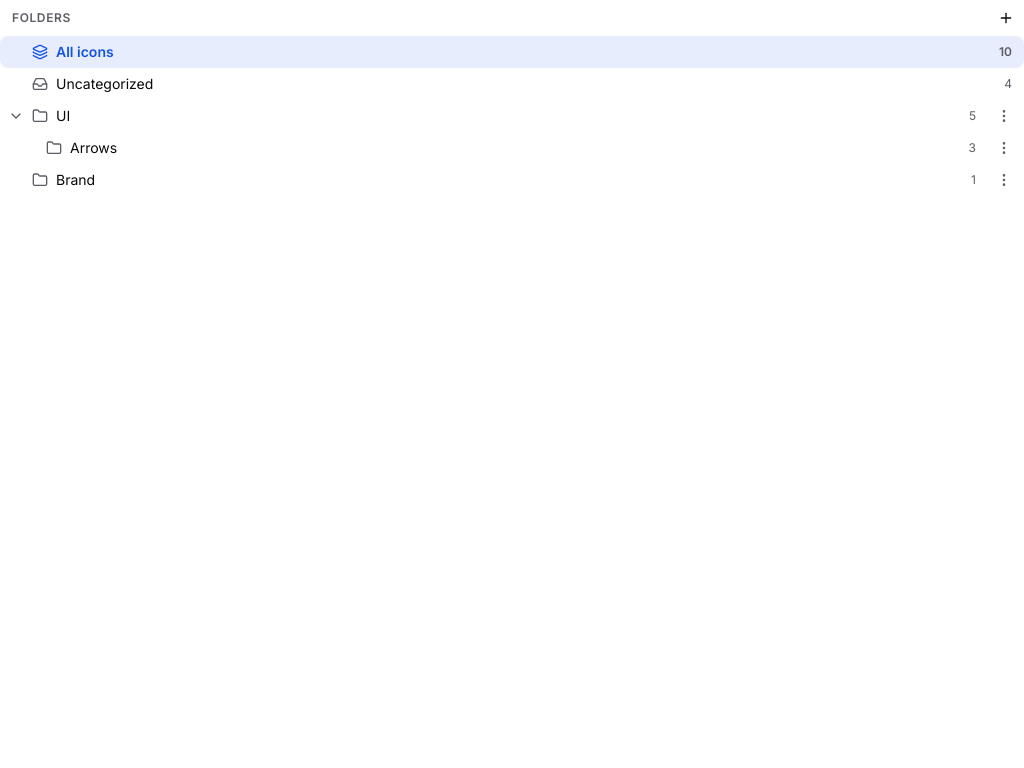
Test: folder actions › refuses an empty name and shows an error from the server inside the dialog
The image size is (1024, 768).
Click the button named "New folder": (1006, 18) [992,4,1020,32]
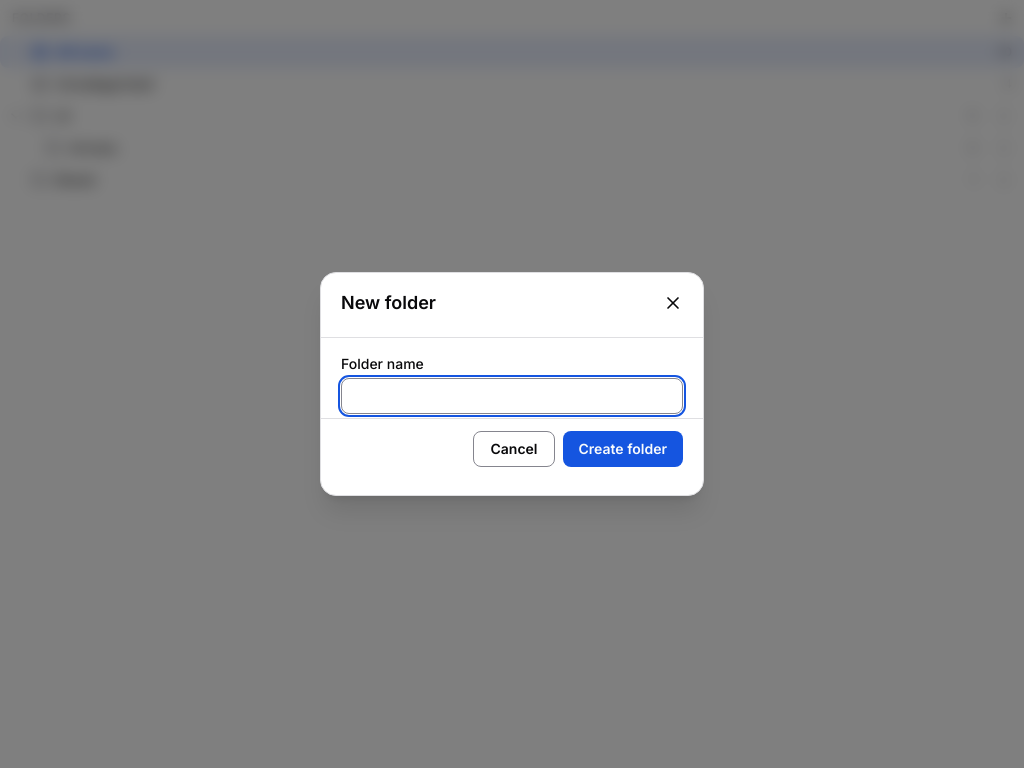
Click the button "Create folder": (623, 449) [562,431,683,467]
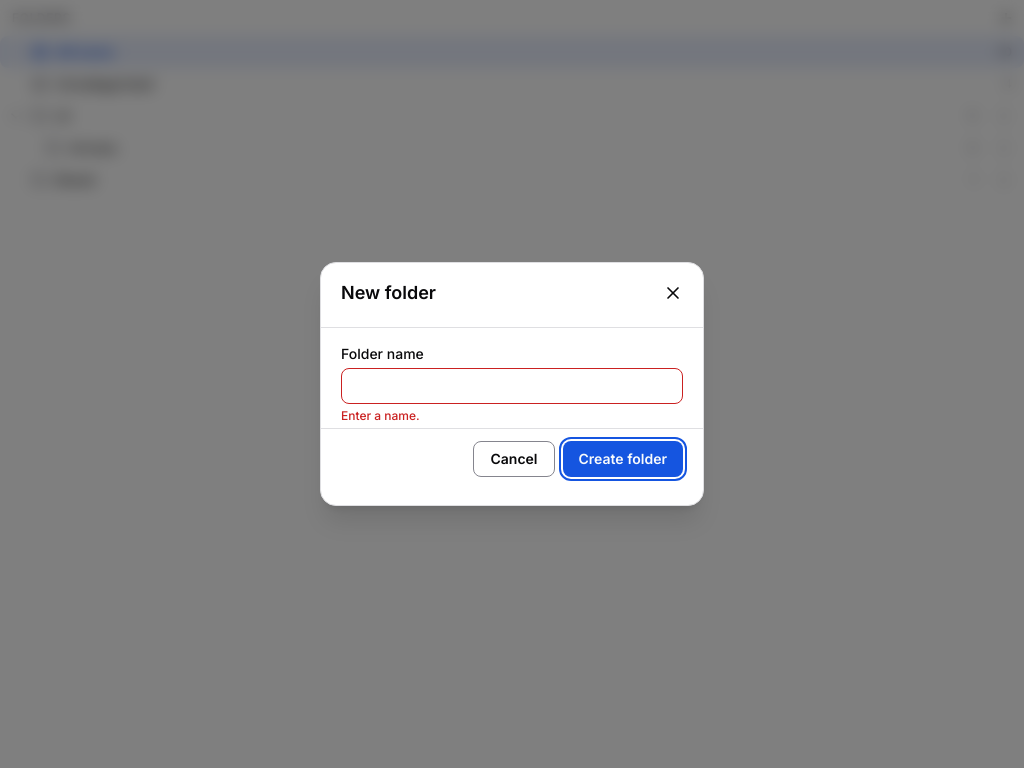
Check: the text "Enter a name." is shown, box [341,408,420,423]
In the field labelled "Folder name": (512, 386) [341,368,683,404], type "Logos"
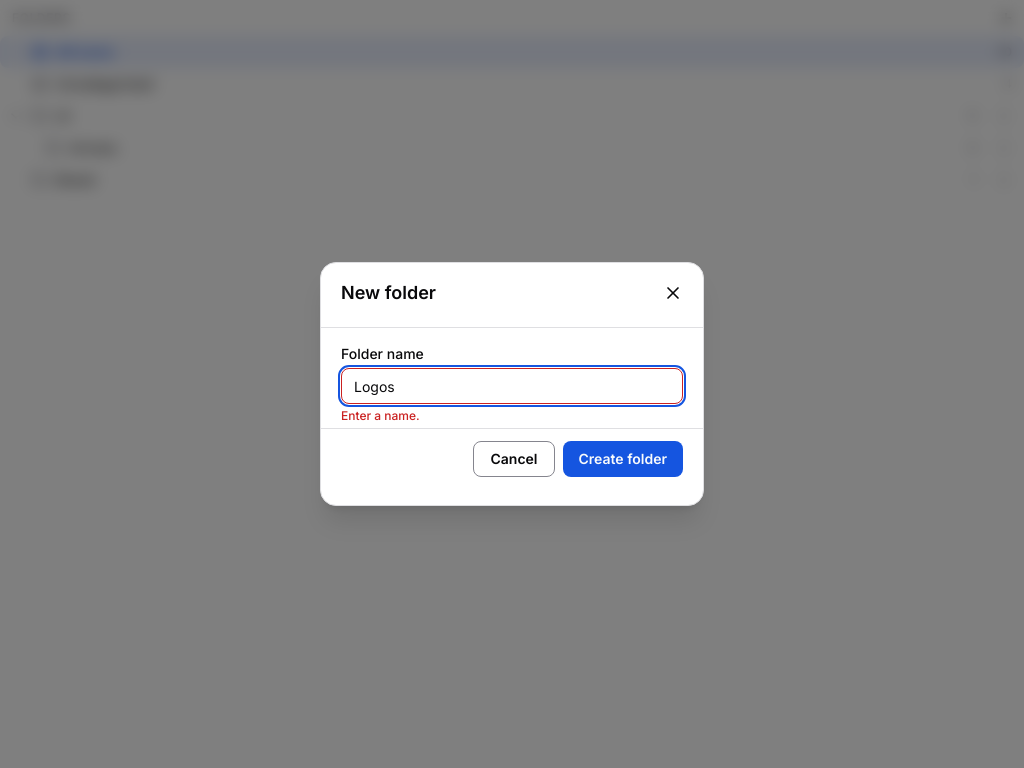
Click the button "Create folder": (623, 459) [562,441,683,477]
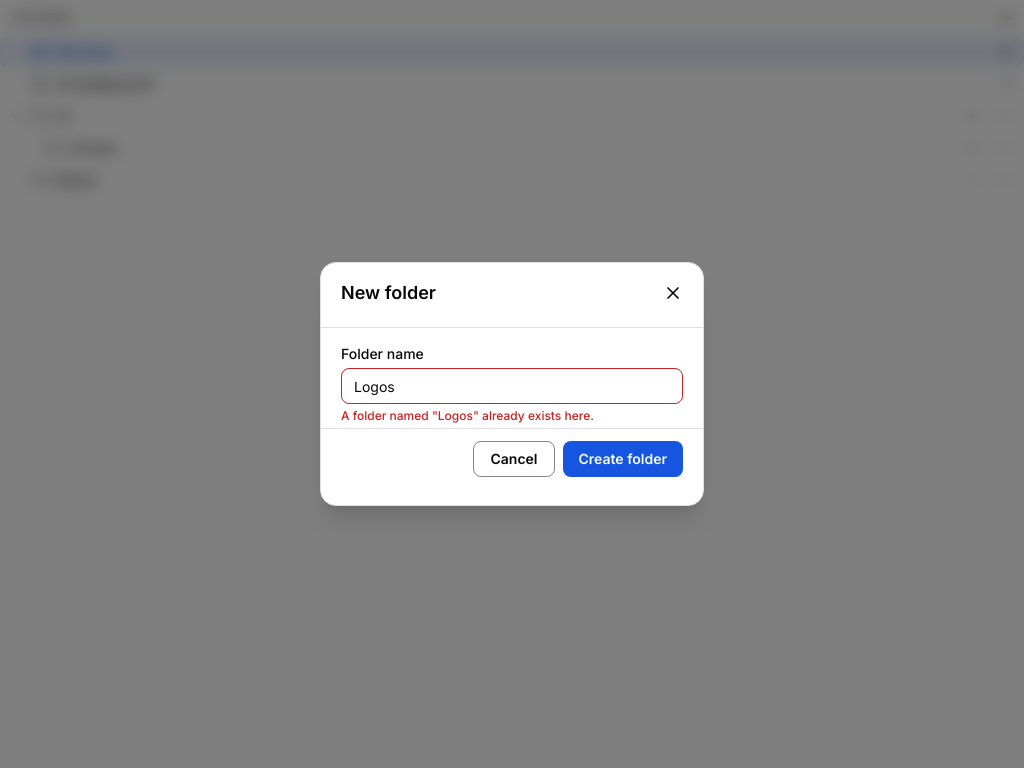
Check: the dialog is shown, box [320,262,704,506]
Check: the text "A folder named \"Logos\" already exists here." is shown, box [341,408,594,423]
